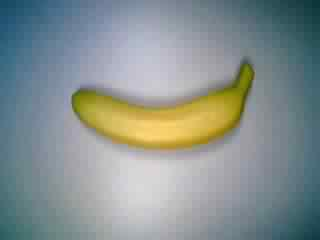banana: (66, 58, 255, 156)
